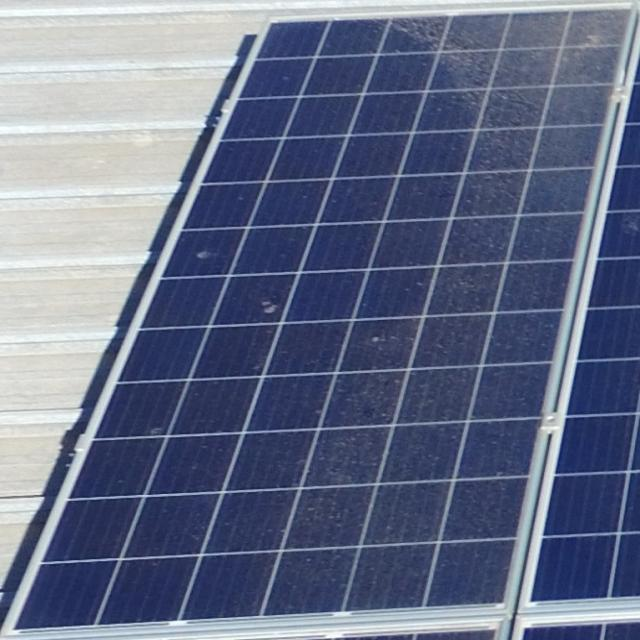Dust: (410, 5, 632, 210)
bird-droppings: (258, 295, 284, 321), (192, 242, 215, 266), (368, 331, 382, 348)
